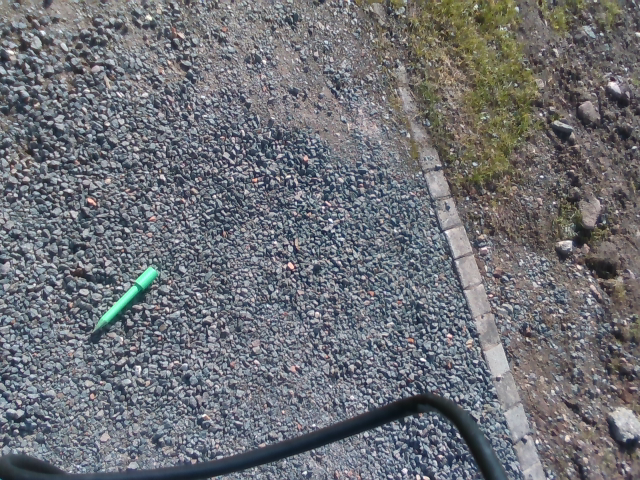Probe: (88, 264, 160, 337)
